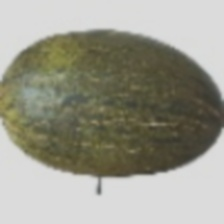honeydew: (44, 18, 192, 194)
